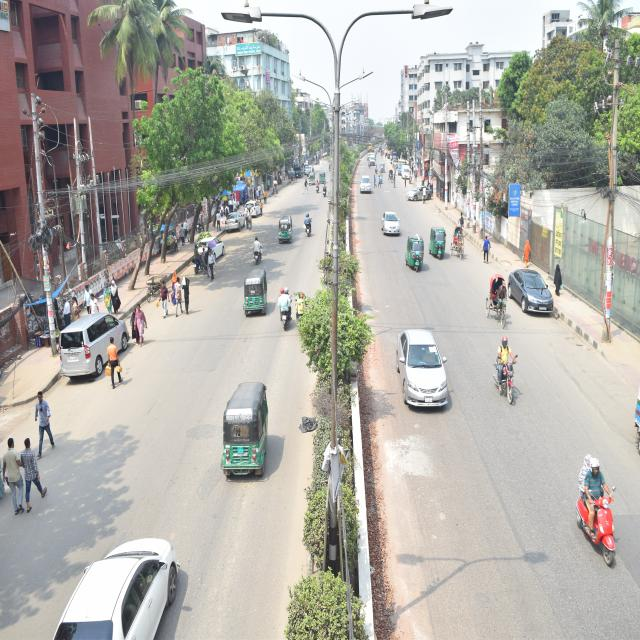car: (28, 488, 208, 634), (17, 290, 162, 402), (364, 297, 469, 436), (498, 264, 577, 344), (193, 206, 240, 281), (213, 186, 253, 244), (402, 169, 449, 211), (373, 187, 404, 246), (246, 188, 270, 228), (396, 147, 422, 179), (358, 171, 375, 213), (299, 159, 319, 184), (368, 151, 381, 174)
motorbike: (571, 430, 635, 565), (492, 330, 544, 426), (276, 270, 303, 352), (238, 221, 273, 279), (294, 206, 317, 241), (308, 170, 325, 200), (320, 175, 332, 207), (372, 164, 387, 186)
pickup-van: (289, 161, 306, 191)
